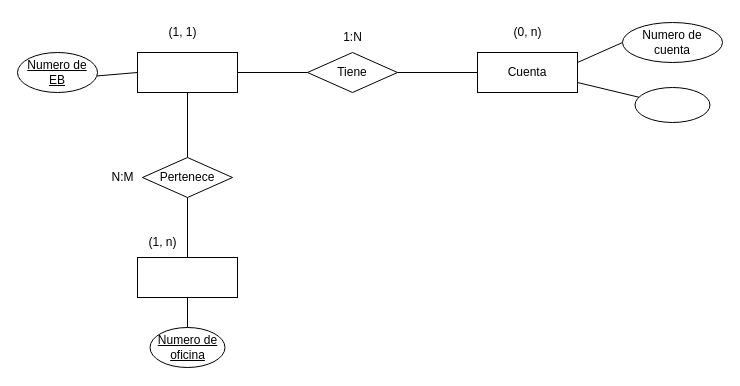
This 740x386 diagram has some shape labels left out. The shapes that lost their labels are listed below. From the top down, each one's centre as x and y in pixels, then its label:
At point (187, 72): "Entidad bancaria".
At point (672, 104): "Digito de Control".
At point (187, 277): "Oficina".
